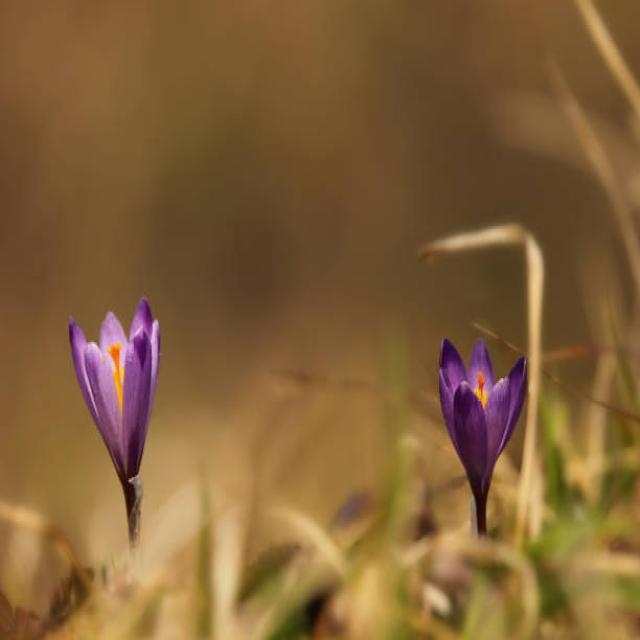saffron open: (69, 298, 159, 544), (439, 339, 526, 534)
